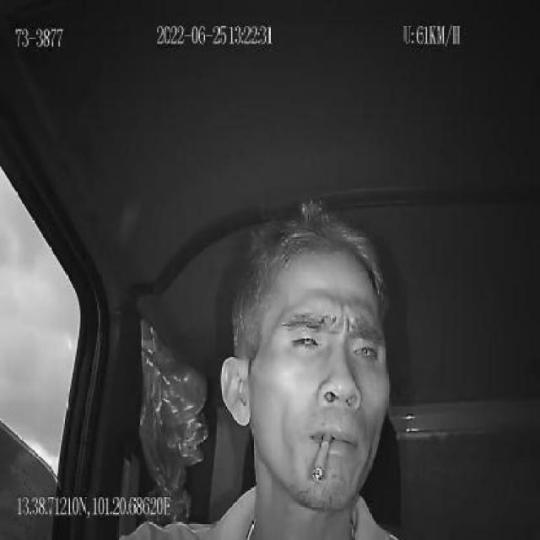smoking: (312, 431, 332, 484)
